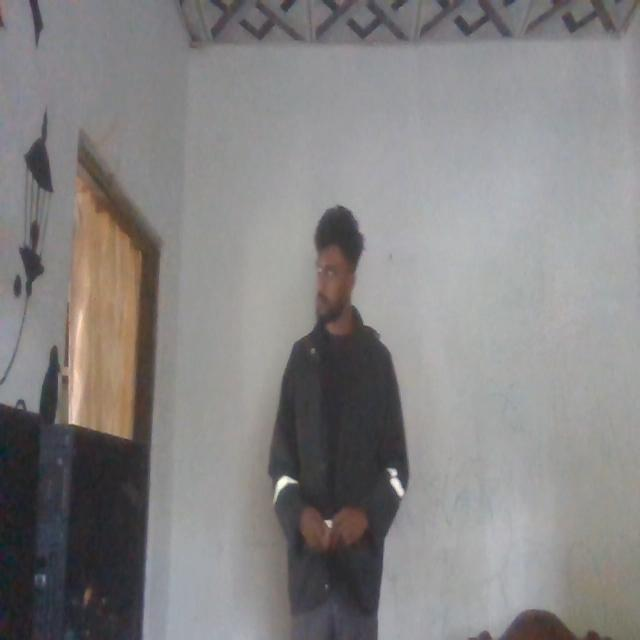Jacket_Wearer: (268, 314, 406, 591)
Person: (266, 201, 408, 640)
